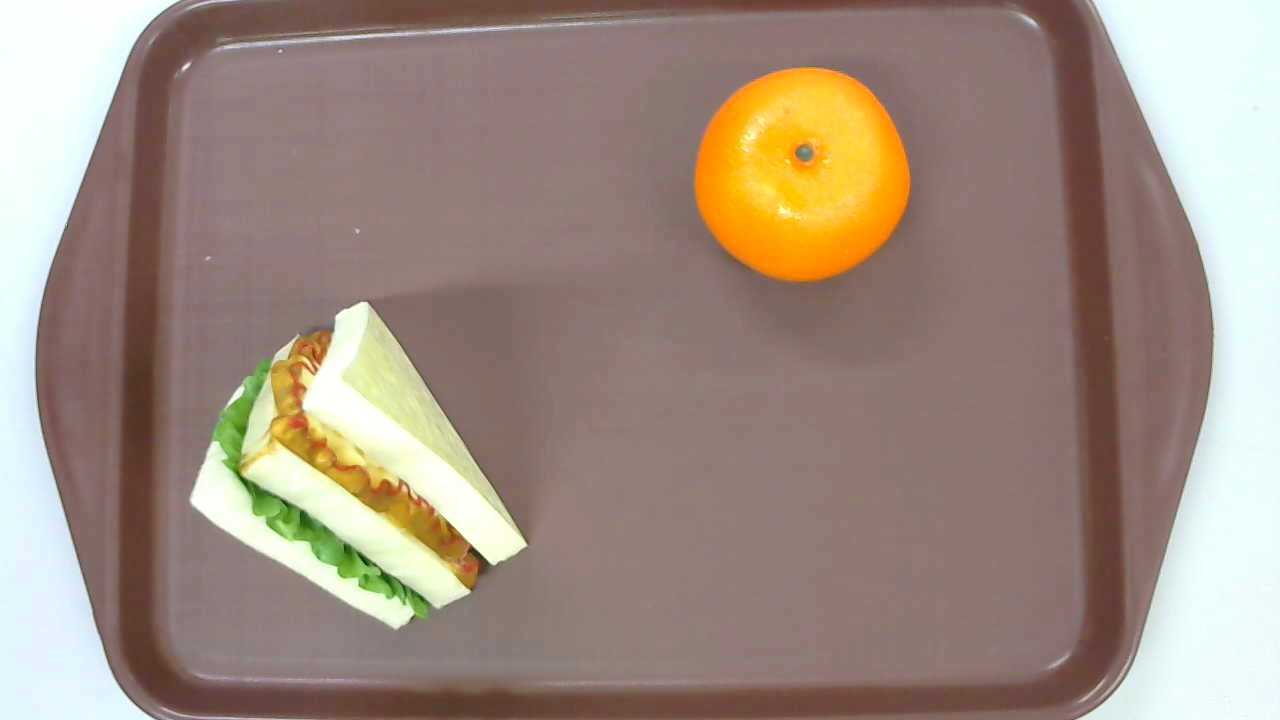orange: (694, 66, 911, 286)
sandwich: (188, 299, 529, 632)
